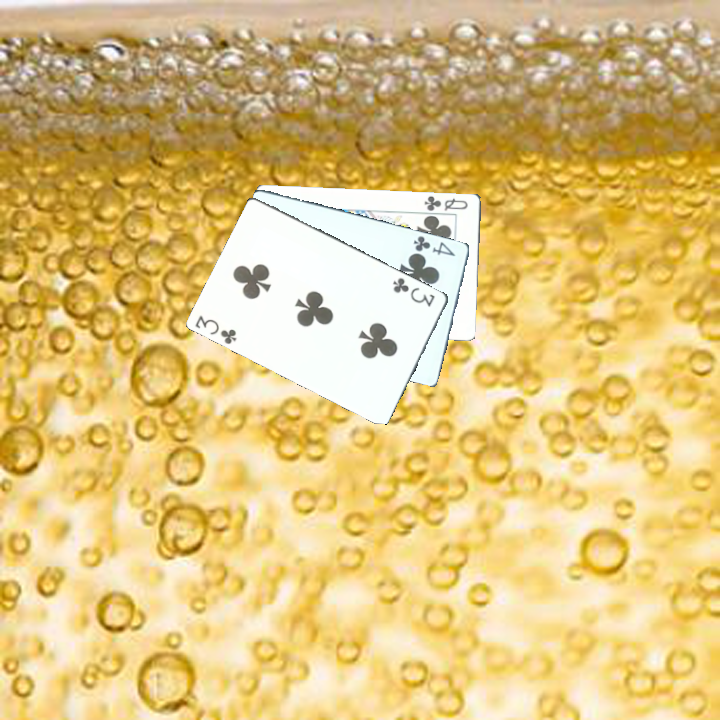3c: (388, 273, 437, 309), (191, 311, 239, 346)
4c: (409, 232, 458, 259)
Qc: (418, 193, 470, 222)
